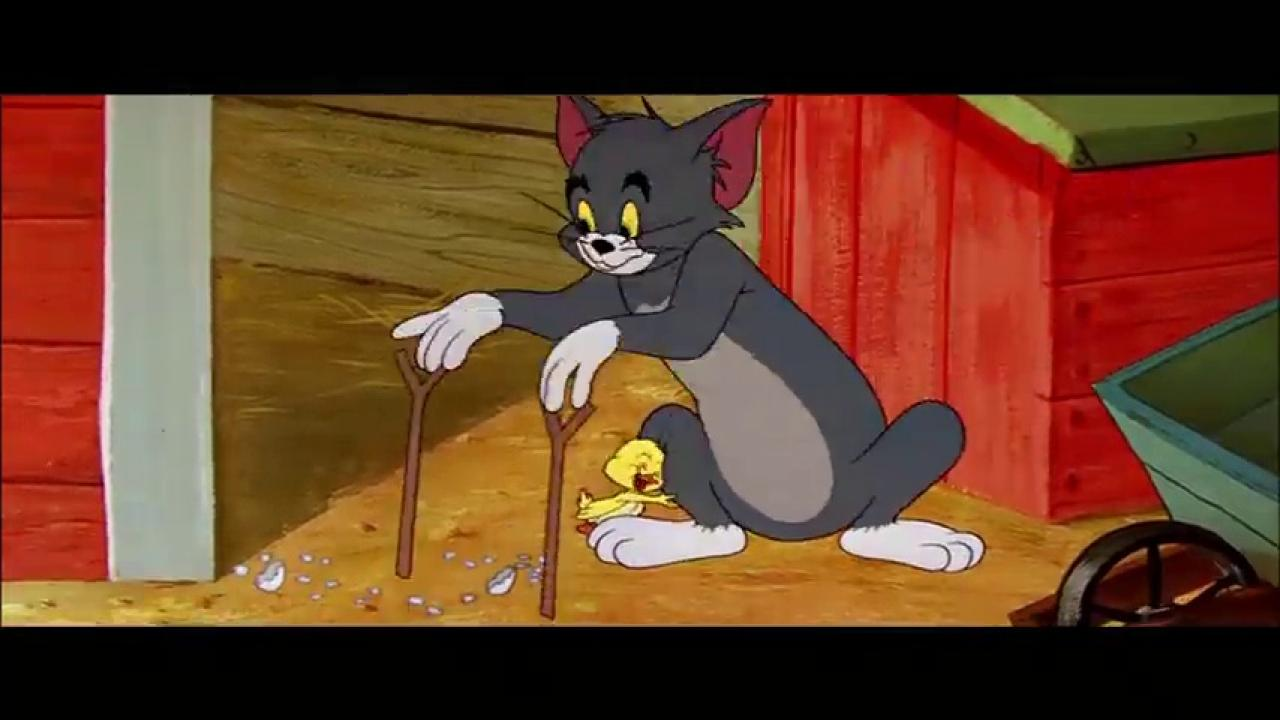Tom: (381, 95, 988, 573)
